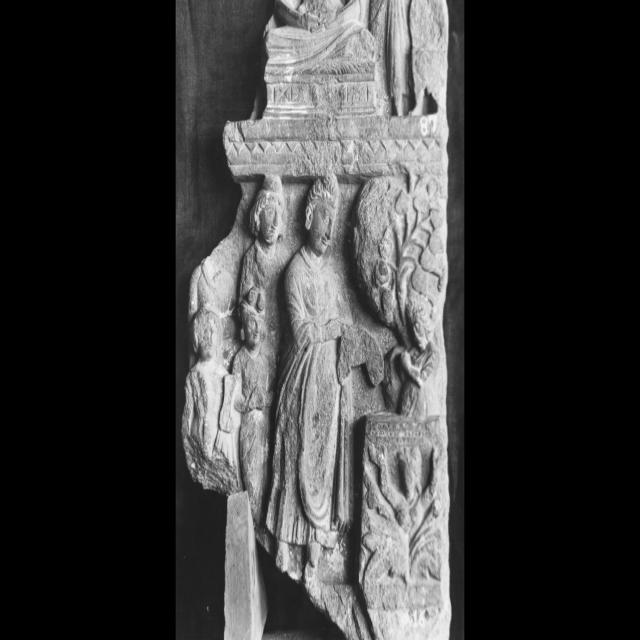buddha-standing: (266, 176, 352, 578)
